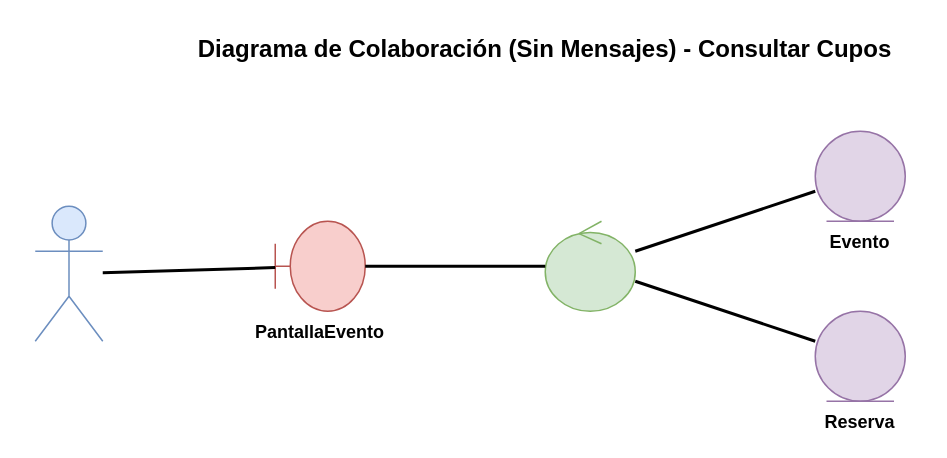
Some shapes in this 947 by 458 pixel diagram are drawn without their labels. Each missing label, with the centre of its shape:
"CalculoCupos" goes at (589,265).
"Estudiante" goes at (68,273).
